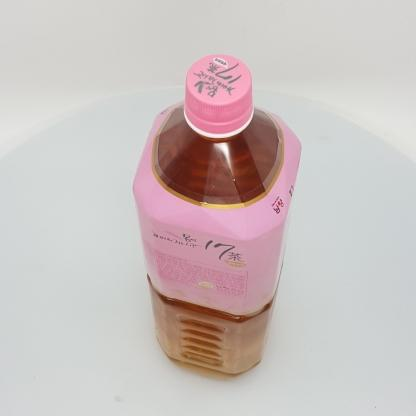--17-----1-5L: (132, 54, 302, 380)
